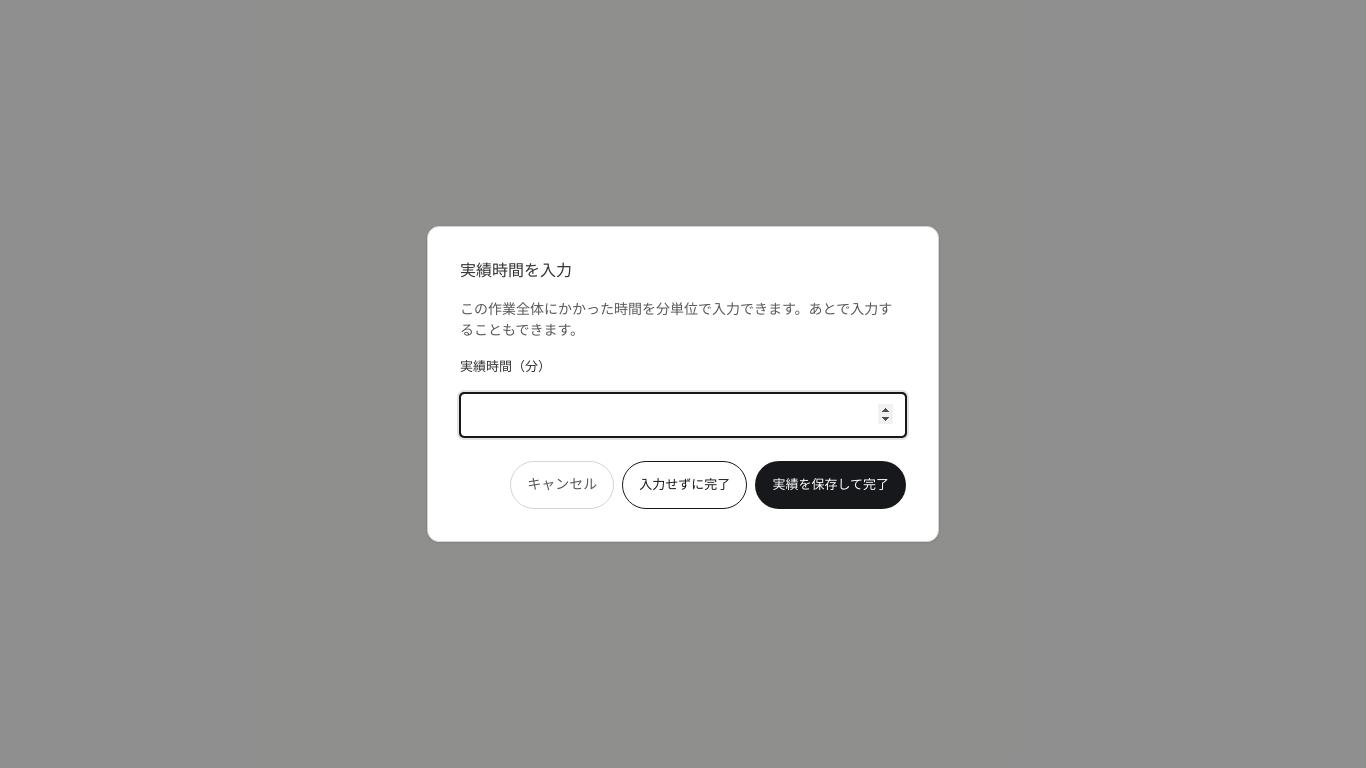
shows an inline error for an invalid actual duration
Type "-1" into the number field labelled "実績時間（分）" at coordinates (683, 415), box [460,393,906,437]
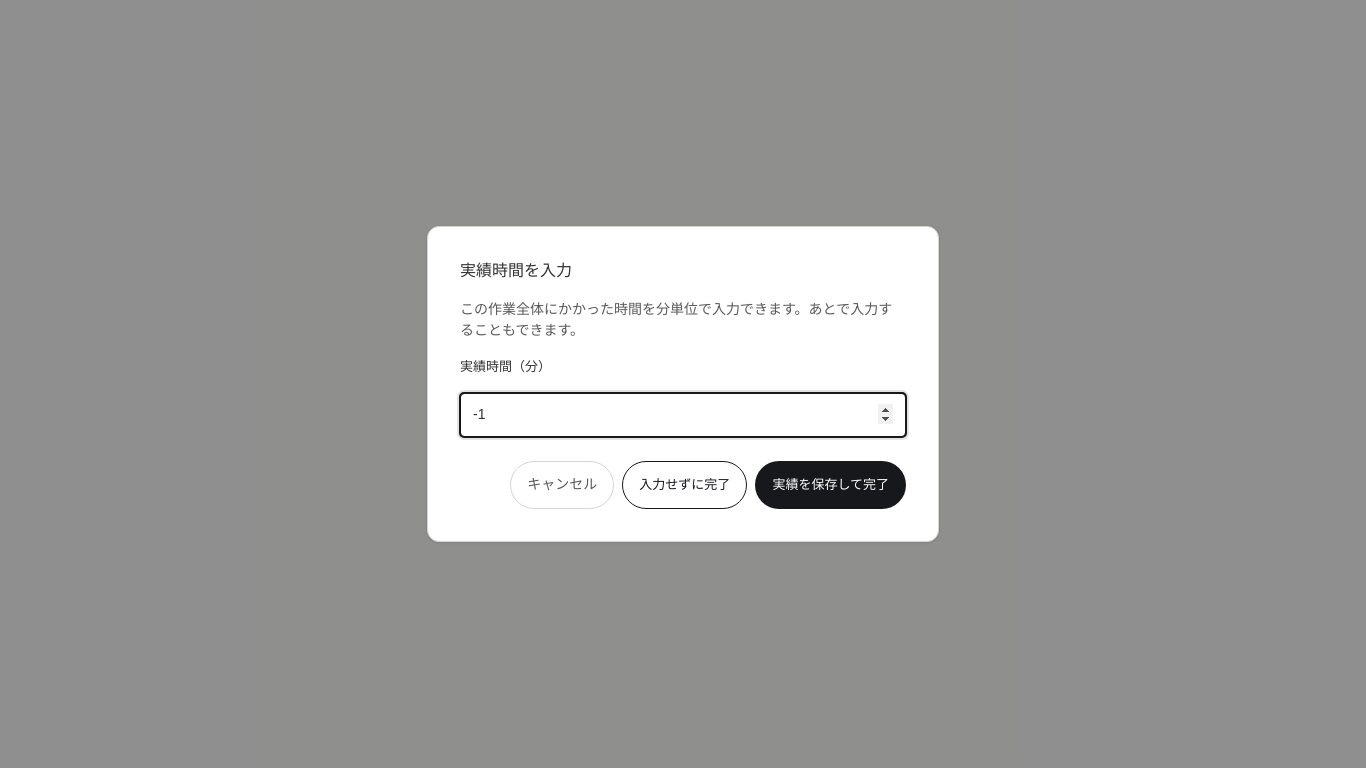
Click the button "実績を保存して完了" at coordinates (831, 485), box [755,461,906,509]
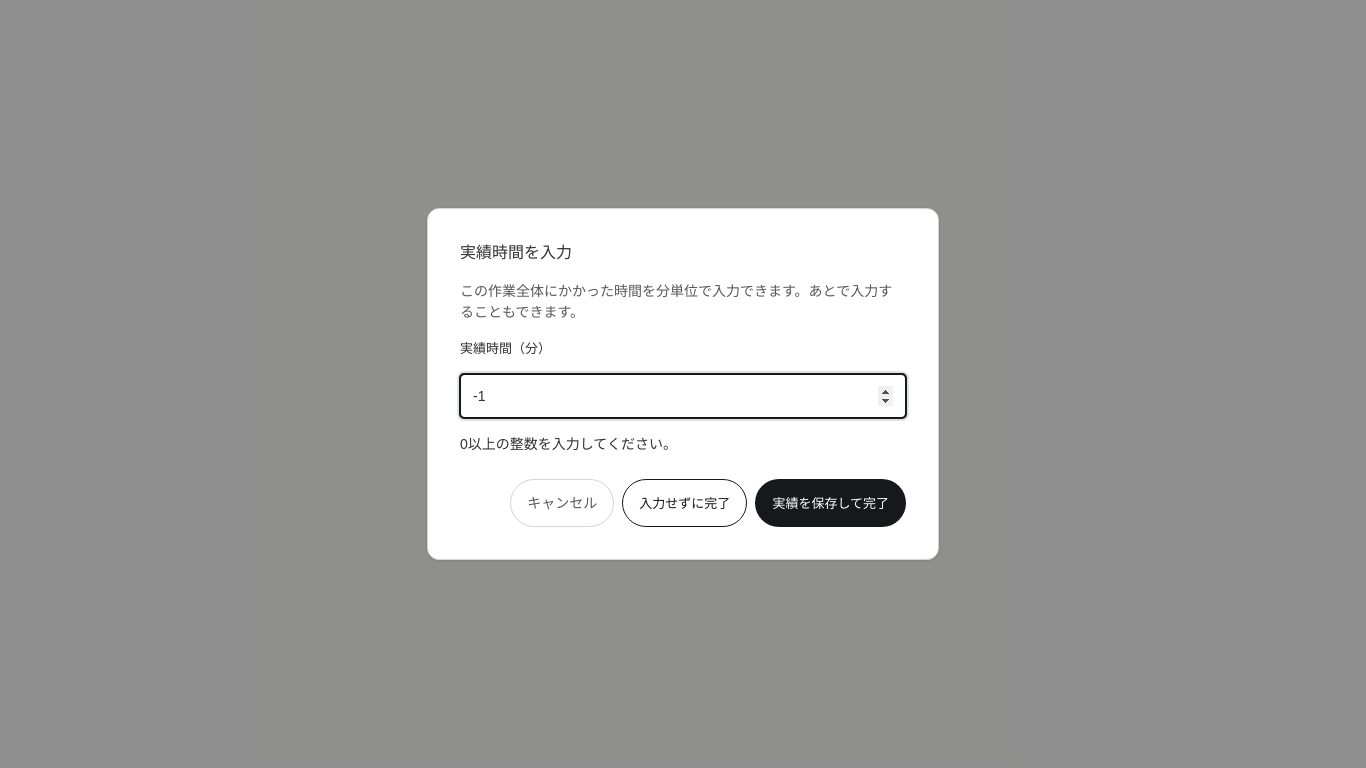
Expected: the message reads "0以上の整数を入力してください。", [460,436,677,452]
